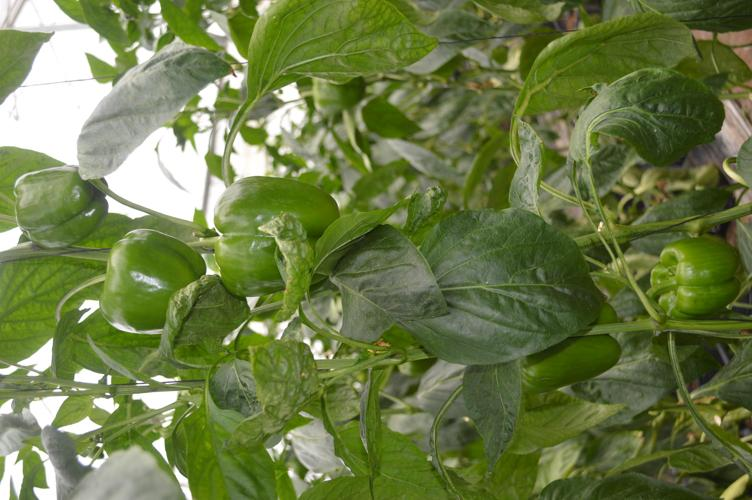BellPepper: (206, 177, 359, 289), (79, 237, 205, 328), (646, 228, 752, 316), (10, 165, 110, 253), (501, 343, 629, 399)
